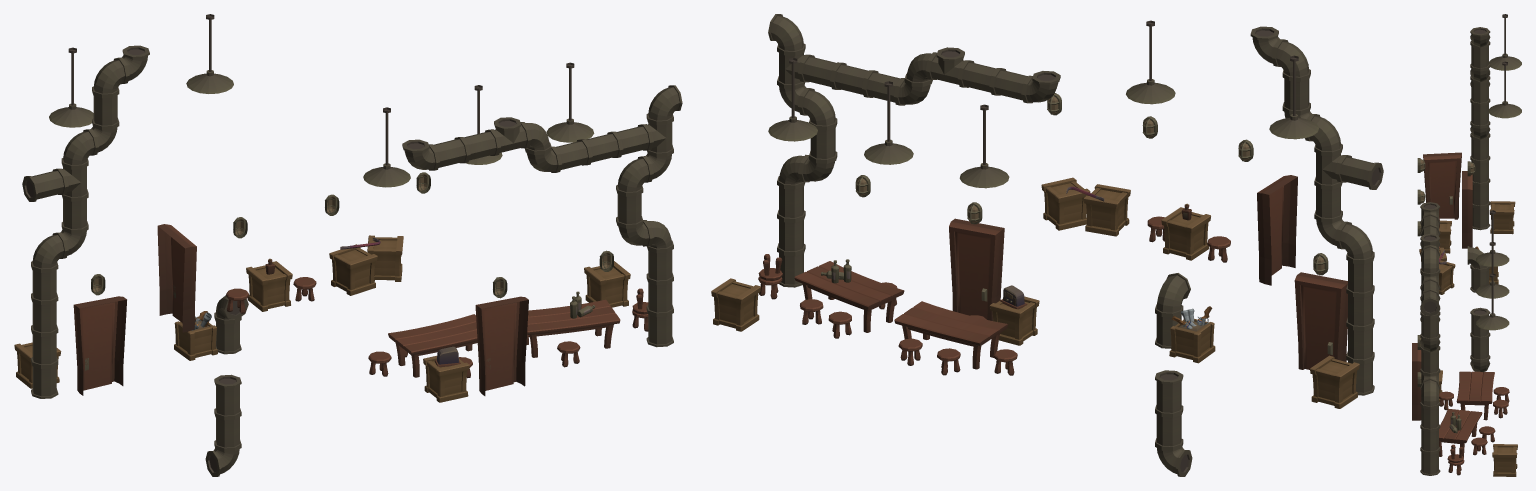
File: SM_Setdressing_Level1_Large_Hangout.fbx
3 views of the same model, side by side, from view 1: azimuth 30°, elevation 25°; view 2: azimuth 150°, elevation 25°; view 3: azimuth 270°, elevation 25° (orthographic). The views are drawn at different scales.
Parts seen in each view (by area): view 1: SM_Setdressing_Level1_Large_Hangout; view 2: SM_Setdressing_Level1_Large_Hangout; view 3: SM_Setdressing_Level1_Large_Hangout.
Part boxes in pixels (box(x1,y1,x2,y2)): SM_Setdressing_Level1_Large_Hangout: box(14, 14, 682, 476); SM_Setdressing_Level1_Large_Hangout: box(711, 14, 1383, 476); SM_Setdressing_Level1_Large_Hangout: box(1412, 14, 1521, 476).
Bounding box in the file's own units: 2002 × 439 × 1390.
